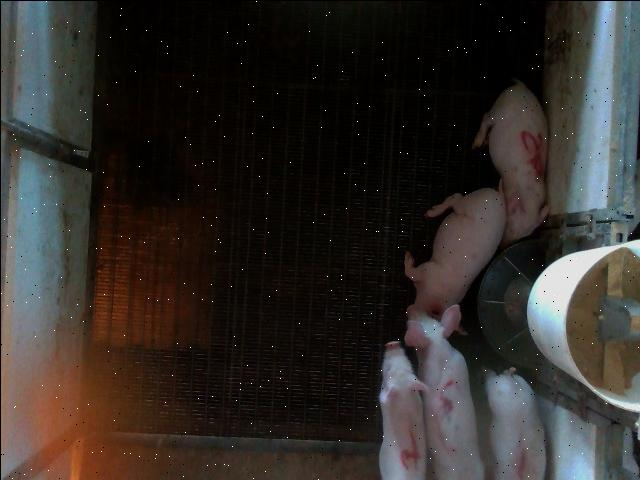pig-1: (482, 366, 544, 478)
pig-3: (404, 304, 484, 479)
pig-5: (471, 79, 548, 245)
